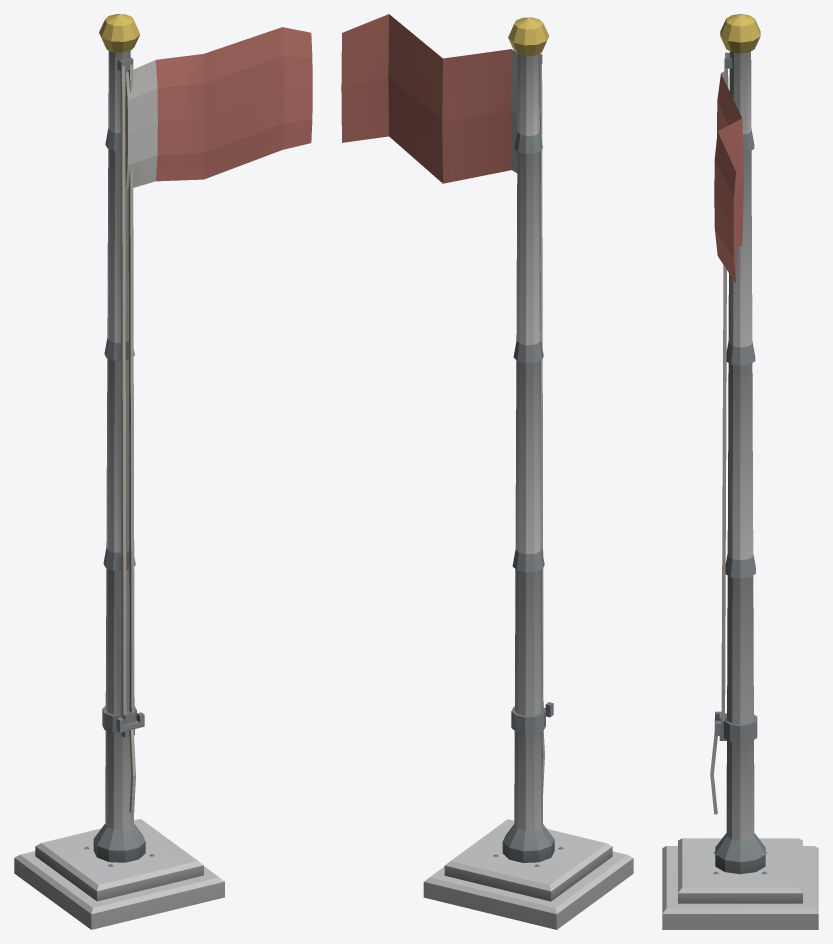
The model's file is redflag.glb.
3 views of the same model, side by side, from view 1: azimuth 30°, elevation 25°; view 2: azimuth 150°, elevation 25°; view 3: azimuth 270°, elevation 25° (orthographic).
Visible parts, largest first — view 1: redflag; view 2: redflag; view 3: redflag.
Boxes of the visible parts, box(x1,y1,x2,y2) form: redflag: box(14, 14, 312, 929); redflag: box(341, 14, 633, 929); redflag: box(662, 14, 818, 929).
Bounding box in the file's own units: 2.3 × 7.48 × 1.2.
